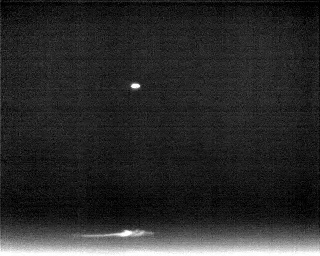AIRPLANE: (129, 80, 142, 92)
